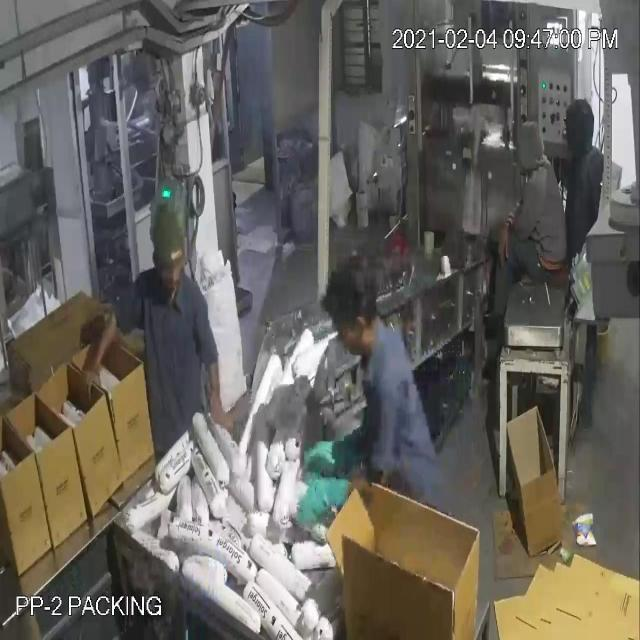No_Gloves: (35, 49, 336, 504)
